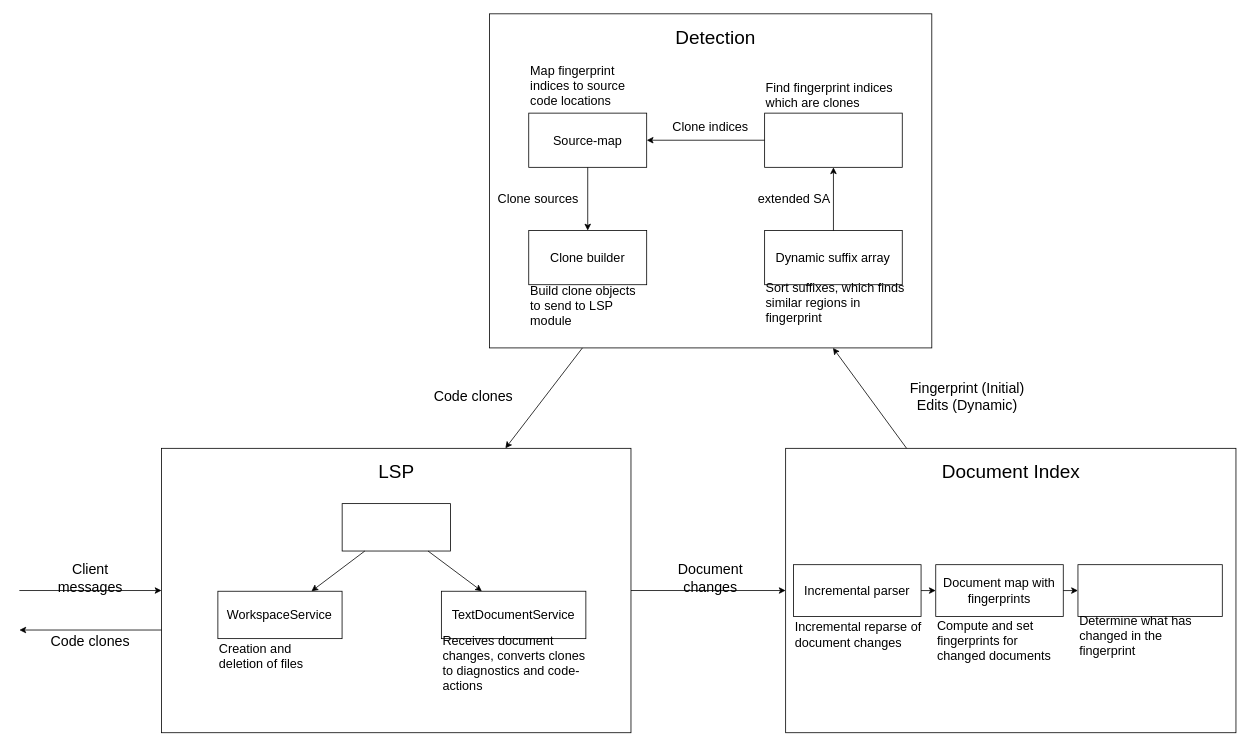
Some shapes in this 1250 by 747 pixel diagram are drawn without their labels. The centre of each missing label's shape, as x and y in pixels:
Clone index extractor: [833,139]
Edit operation calculator: [1149,590]
LspServer: [395,527]
